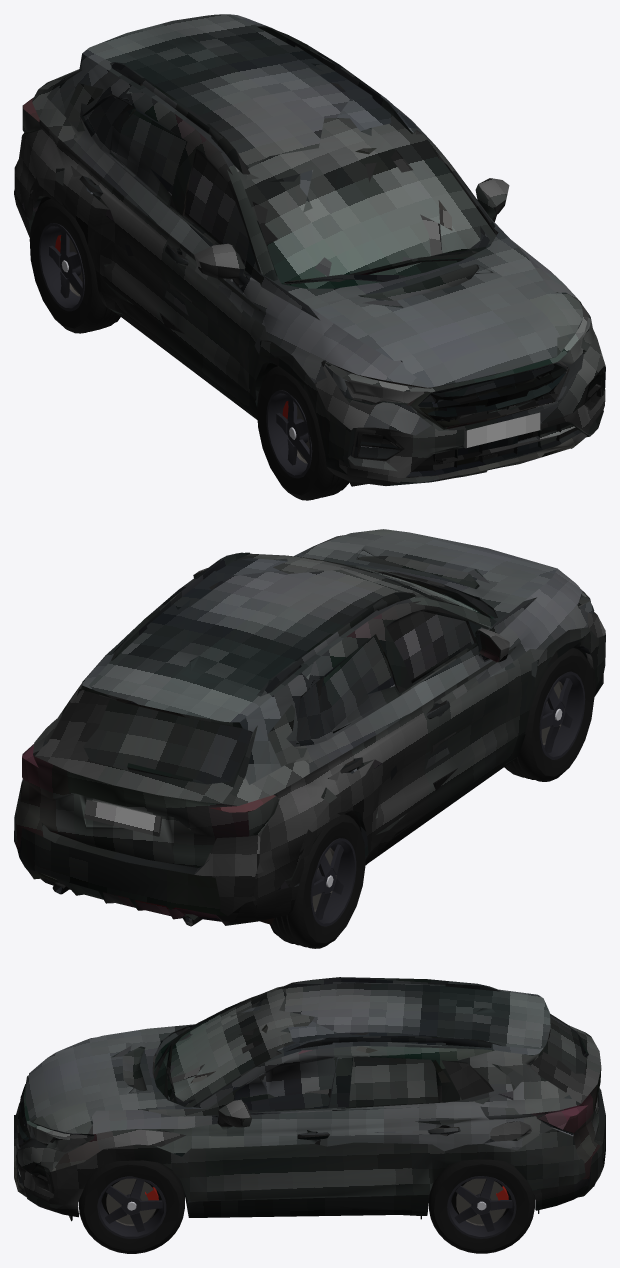
The model's file is suv_m.glb.
3 renders of one model, top to bottom at view 1: azimuth 30°, elevation 25°; view 2: azimuth 150°, elevation 25°; view 3: azimuth 270°, elevation 25°, orthographic. The views are drawn at different scales.
Visible parts, largest first — view 1: karosserie, rad_hr, rad_vr; view 2: karosserie, rad_hr, rad_vr; view 3: karosserie, rad_hl, rad_vl.
Part boxes in pixels (box(x1,y1,x2,y2)): karosserie: box(14, 14, 605, 486); rad_hr: box(29, 199, 120, 333); rad_vr: box(257, 366, 349, 500); karosserie: box(14, 529, 605, 926); rad_hr: box(270, 814, 365, 948); rad_vr: box(504, 647, 594, 781); karosserie: box(14, 977, 605, 1221); rad_hl: box(428, 1159, 534, 1253); rad_vl: box(78, 1160, 184, 1253).
Size of the model in its own units: 2.06 by 1.64 by 4.45.
Materials: 3 (1 with a texture image).
